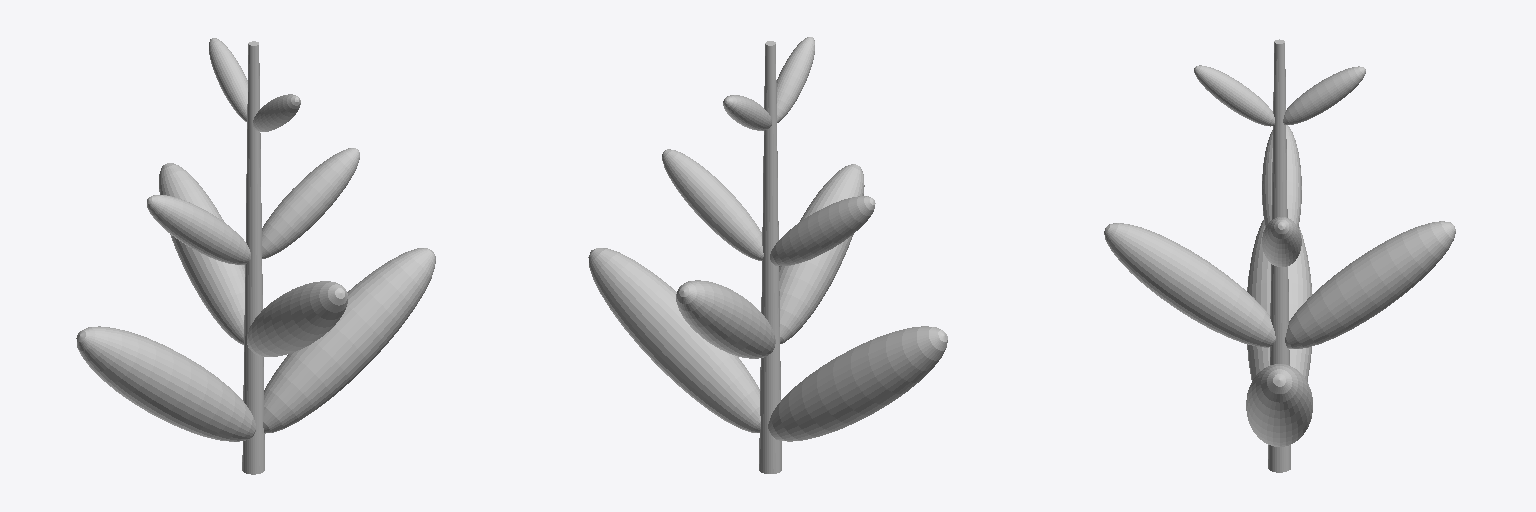
The model's file is CRAZYPAZZO.obj.
The picture shows the model from 3 angles: view 1: azimuth 30°, elevation 25°; view 2: azimuth 150°, elevation 25°; view 3: azimuth 270°, elevation 25°; orthographic projection.
Parts seen in each view (by area): view 1: Sphere.008, Sphere.001, Cylinder, Sphere.002, Sphere.007, Sphere.003, Sphere.006, Sphere.005, Sphere.004; view 2: Sphere.008, Sphere.001, Cylinder, Sphere.002, Sphere.007, Sphere.003, Sphere.006, Sphere.004, Sphere.005; view 3: Sphere.002, Sphere.007, Cylinder, Sphere.008, Sphere.001, Sphere.005, Sphere.004, Sphere.006, Sphere.003.
Part boxes in pixels (x1,y1,x2,y2): Sphere.008: (263, 248, 435, 433); Sphere.001: (76, 326, 255, 441); Cylinder: (242, 41, 264, 474); Sphere.002: (159, 163, 244, 344); Sphere.007: (247, 281, 347, 356); Sphere.003: (262, 148, 359, 258); Sphere.006: (147, 195, 250, 264); Sphere.005: (209, 38, 247, 121); Sphere.004: (253, 94, 300, 131); Sphere.008: (588, 248, 760, 432); Sphere.001: (768, 326, 947, 441); Cylinder: (759, 41, 781, 473); Sphere.002: (676, 280, 775, 358); Sphere.007: (779, 164, 864, 343); Sphere.003: (662, 149, 763, 260); Sphere.006: (770, 196, 875, 265); Sphere.004: (777, 37, 814, 122); Sphere.005: (723, 95, 771, 130); Sphere.002: (1285, 221, 1455, 348); Sphere.007: (1104, 223, 1275, 347); Cylinder: (1268, 39, 1290, 472); Sphere.008: (1246, 364, 1312, 446); Sphere.001: (1247, 220, 1312, 381); Sphere.005: (1283, 66, 1365, 124); Sphere.004: (1194, 65, 1274, 126); Sphere.006: (1262, 125, 1301, 227); Sphere.003: (1262, 217, 1301, 266).
Bounding box in the file's own units: 7.3 × 8.33 × 6.24.